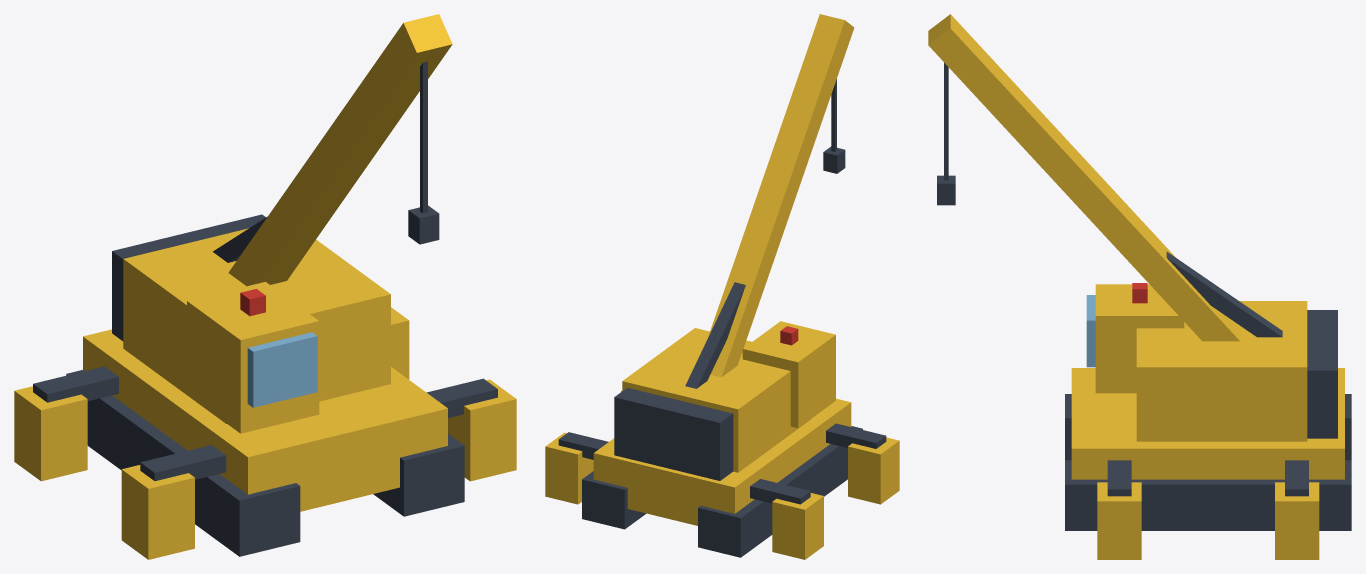
The model's file is recoveryCrane.glb.
3 renders of one model, left to right at view 1: azimuth 30°, elevation 25°; view 2: azimuth 150°, elevation 25°; view 3: azimuth 270°, elevation 25°, orthographic. The views are drawn at different scales.
Visible parts, largest first — view 1: recoveryCrane_yellow, recoveryCrane_steelDark, recoveryCrane_glass; view 2: recoveryCrane_yellow, recoveryCrane_steelDark; view 3: recoveryCrane_yellow, recoveryCrane_steelDark, recoveryCrane_glass.
Part boxes in pixels (bbox=[...]): recoveryCrane_yellow: bbox=[14, 14, 516, 559]; recoveryCrane_steelDark: bbox=[33, 61, 497, 556]; recoveryCrane_glass: bbox=[247, 332, 317, 407]; recoveryCrane_yellow: bbox=[545, 14, 899, 559]; recoveryCrane_steelDark: bbox=[558, 79, 886, 557]; recoveryCrane_yellow: bbox=[928, 14, 1344, 559]; recoveryCrane_steelDark: bbox=[937, 62, 1351, 530]; recoveryCrane_glass: bbox=[1086, 295, 1095, 367].
Size of the model in its own units: 10.3 by 15.01 by 12.4.
